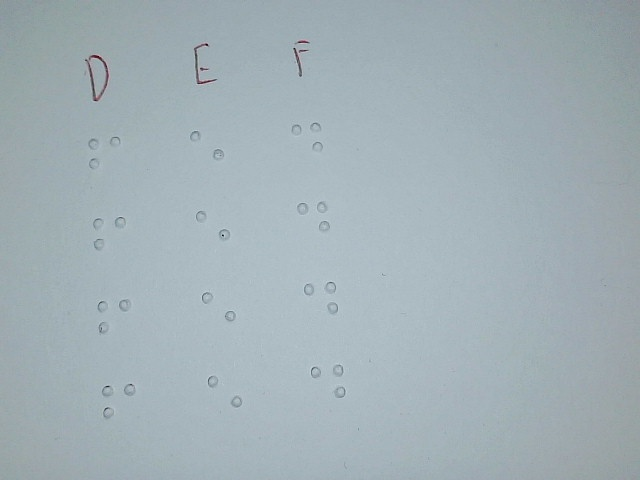D: (289, 110, 324, 173), (295, 189, 330, 252), (303, 269, 338, 332), (310, 352, 345, 415)
E: (189, 117, 225, 181), (194, 196, 230, 260), (201, 278, 237, 342), (206, 361, 242, 425)
F: (86, 124, 122, 188), (92, 205, 128, 269), (96, 287, 132, 351), (101, 371, 137, 435)
